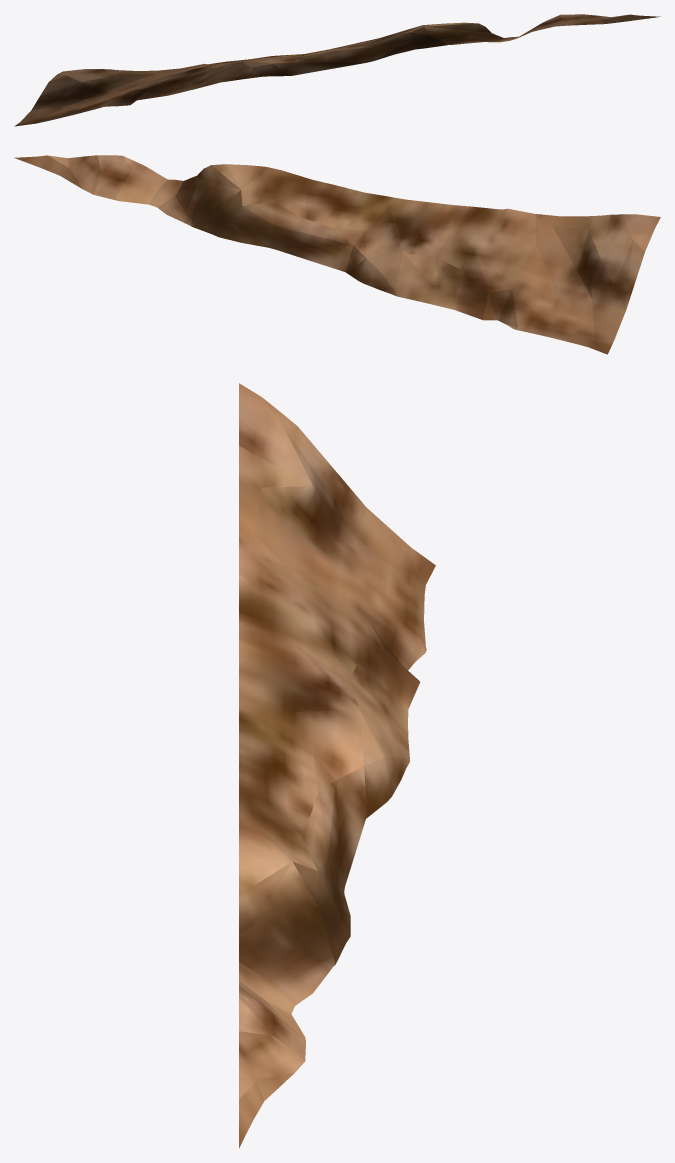
3 renders of one model, top to bottom at view 1: azimuth 30°, elevation 25°; view 2: azimuth 150°, elevation 25°; view 3: azimuth 270°, elevation 25°, orthographic. The views are drawn at different scales.
Size of the model in its own units: 0.4672 by 0.0681 by 0.0667.
1 material, 1 textured.
